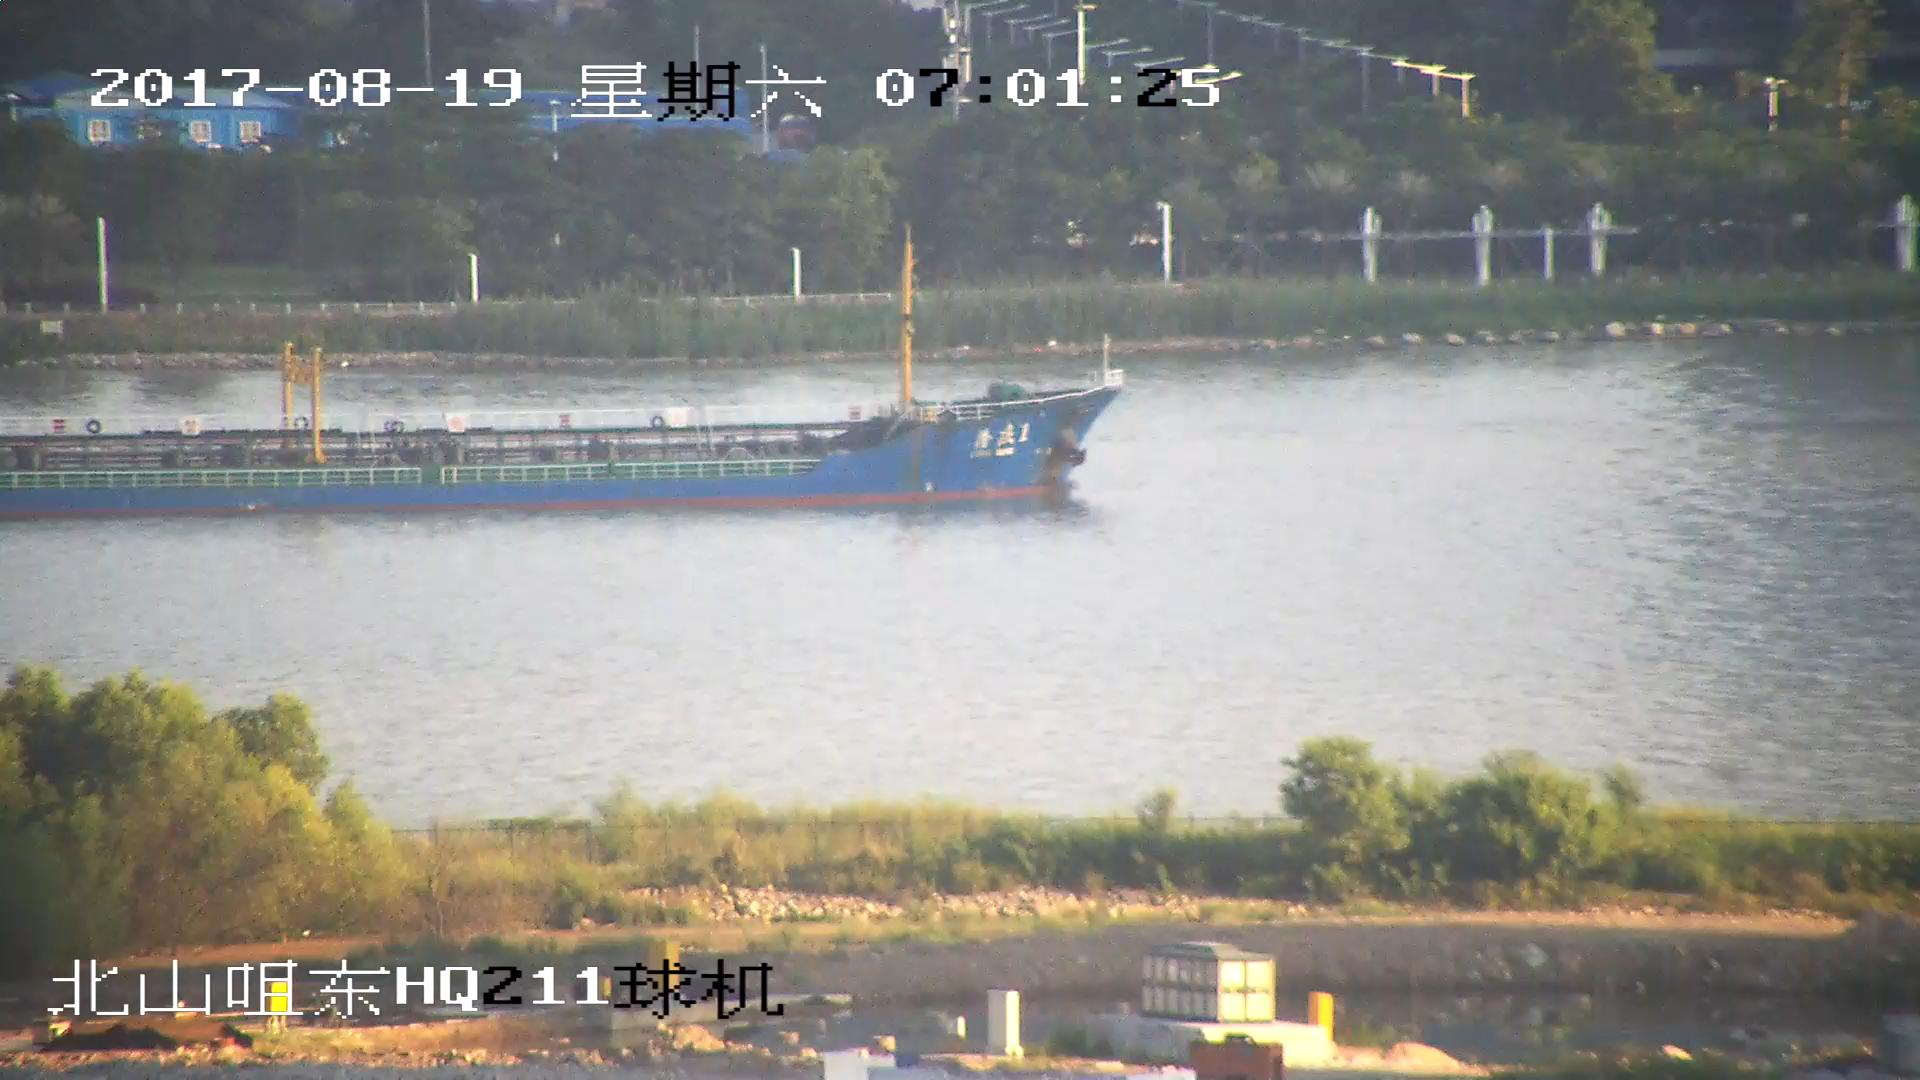general cargo ship: (1, 257, 1113, 506)
